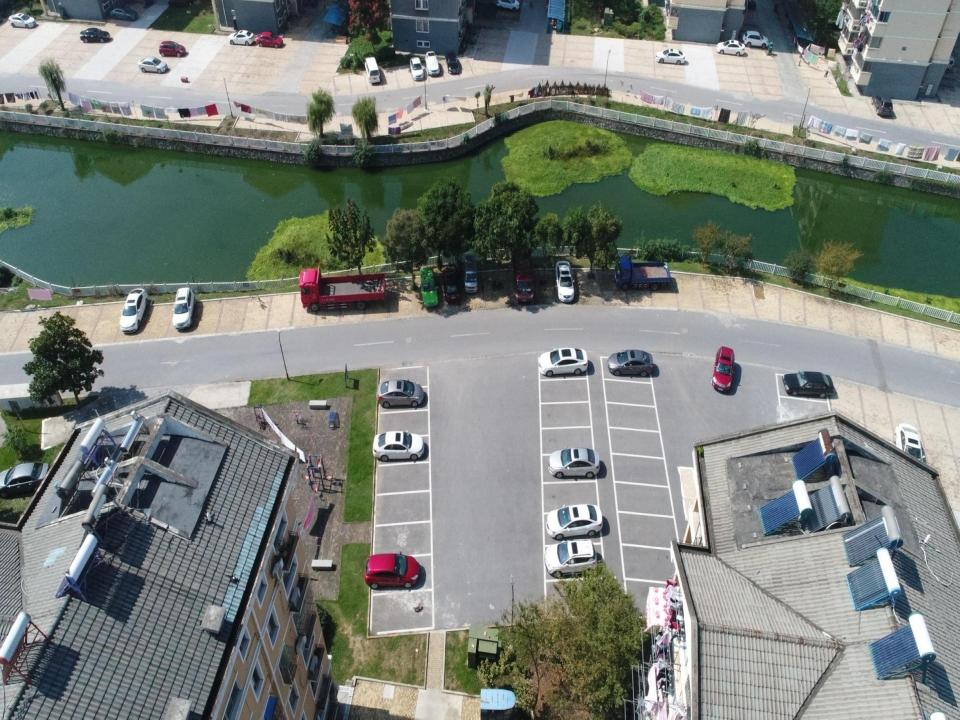car: (544, 504, 603, 539), (544, 540, 600, 576), (364, 553, 419, 589), (0, 463, 50, 497), (373, 430, 425, 462), (548, 448, 600, 478), (376, 376, 424, 407), (538, 348, 588, 377), (782, 369, 833, 397), (120, 288, 148, 334), (608, 348, 653, 376), (711, 346, 735, 392), (894, 423, 922, 462), (172, 286, 196, 329), (419, 266, 438, 308), (556, 260, 574, 302), (441, 266, 460, 301), (742, 30, 769, 49), (138, 57, 168, 74), (253, 32, 284, 48), (716, 40, 745, 57), (655, 49, 685, 65), (8, 13, 36, 30), (80, 28, 110, 43), (158, 42, 186, 58), (108, 8, 139, 22), (228, 30, 254, 46), (445, 49, 459, 74), (496, 0, 520, 11)
truck: (301, 265, 386, 311), (614, 254, 672, 290), (512, 248, 533, 302)
van: (463, 255, 478, 293), (872, 93, 892, 115), (364, 57, 380, 84), (424, 51, 440, 75), (410, 55, 424, 81)
